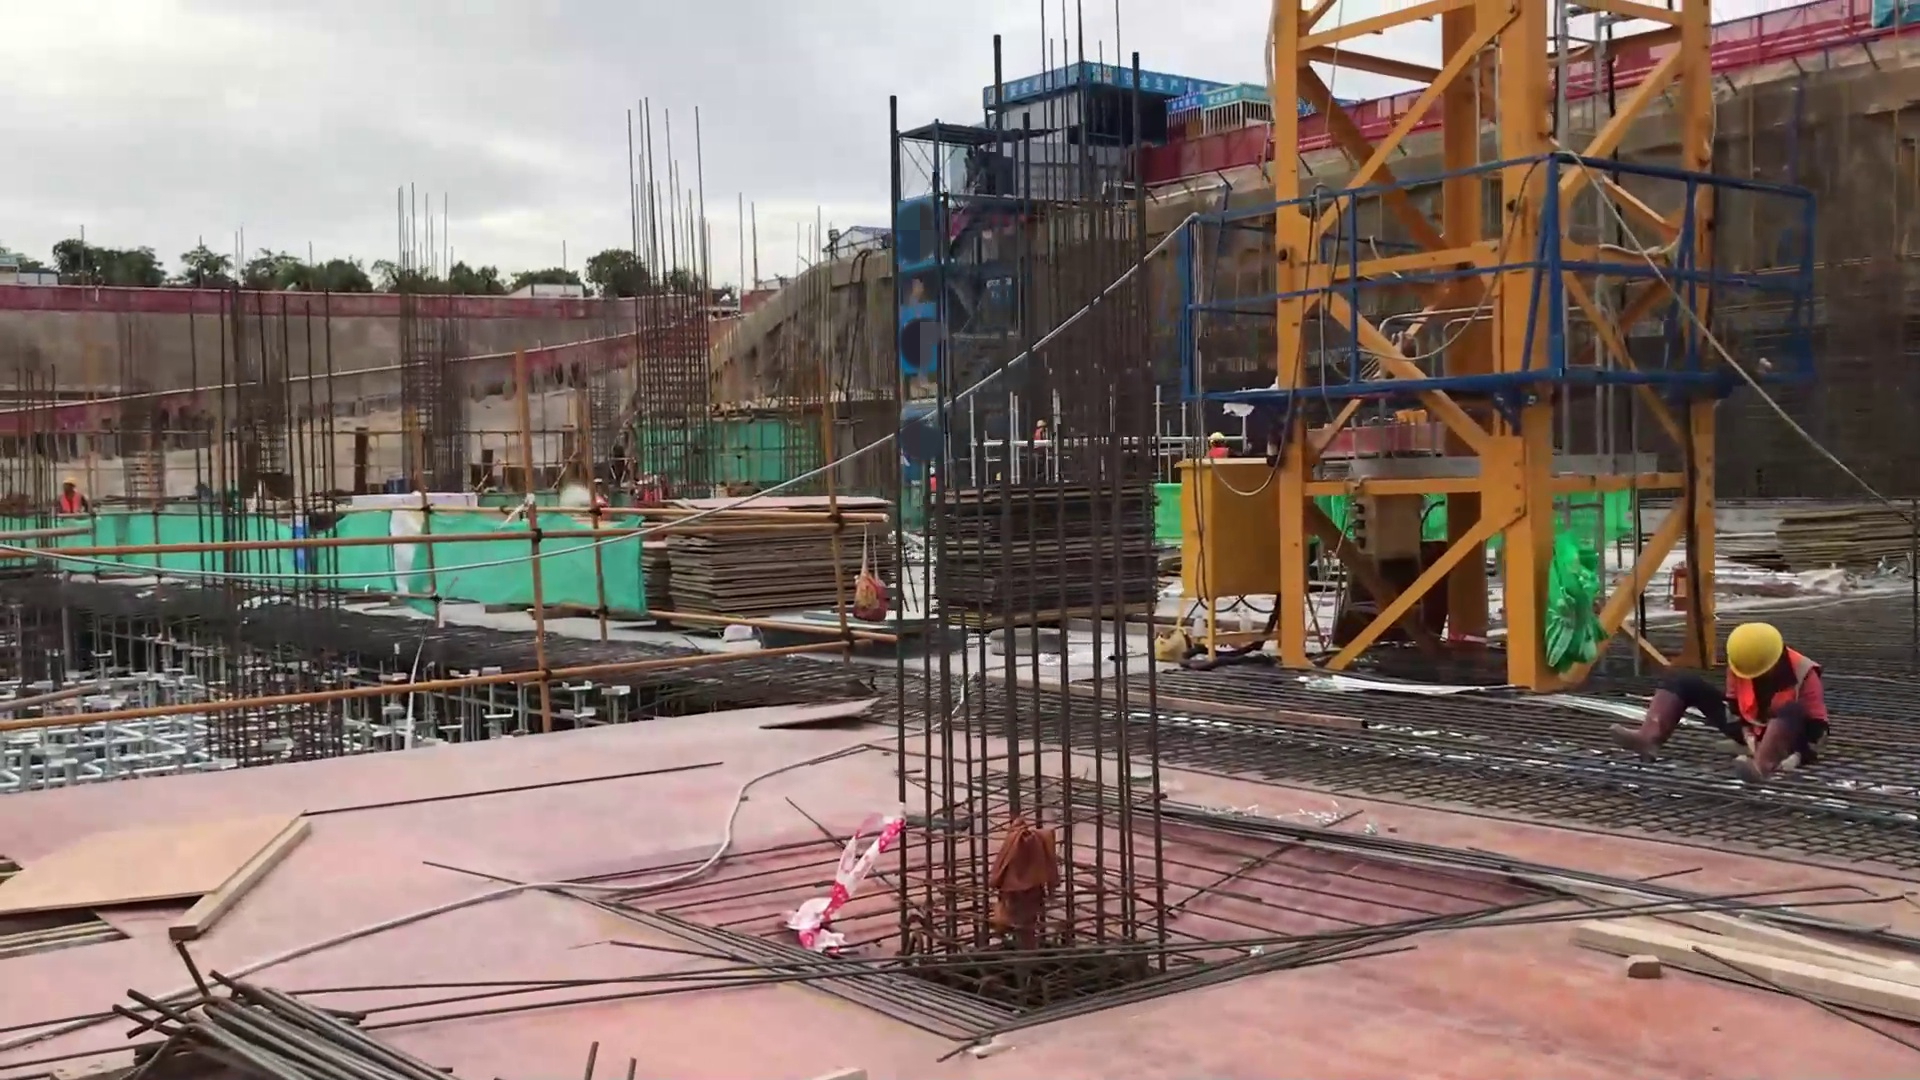board: (668, 506, 883, 611), (944, 497, 1139, 607), (1739, 494, 1909, 582)
ebox: (1193, 457, 1293, 626)
fence: (1703, 1, 1877, 74), (1138, 151, 1291, 181)
helmet: (1726, 623, 1785, 680), (65, 473, 76, 486), (1210, 431, 1224, 443), (642, 473, 658, 483), (1038, 419, 1049, 429), (595, 476, 605, 484)
person: (1638, 615, 1839, 790), (51, 470, 99, 520), (631, 474, 671, 501), (591, 478, 612, 522), (1202, 431, 1234, 460), (929, 464, 941, 493), (1034, 419, 1051, 440)
rebar: (958, 741, 1904, 975), (72, 925, 691, 1080)
vest: (1719, 650, 1832, 735), (60, 493, 85, 514), (637, 486, 662, 503), (1203, 446, 1231, 458), (594, 488, 609, 509), (931, 475, 936, 493), (1035, 428, 1045, 437)
